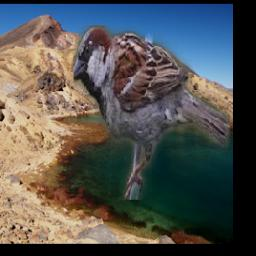Sparrow: (74, 25, 230, 200)
